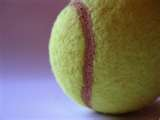tennis ball: (45, 1, 160, 116)
